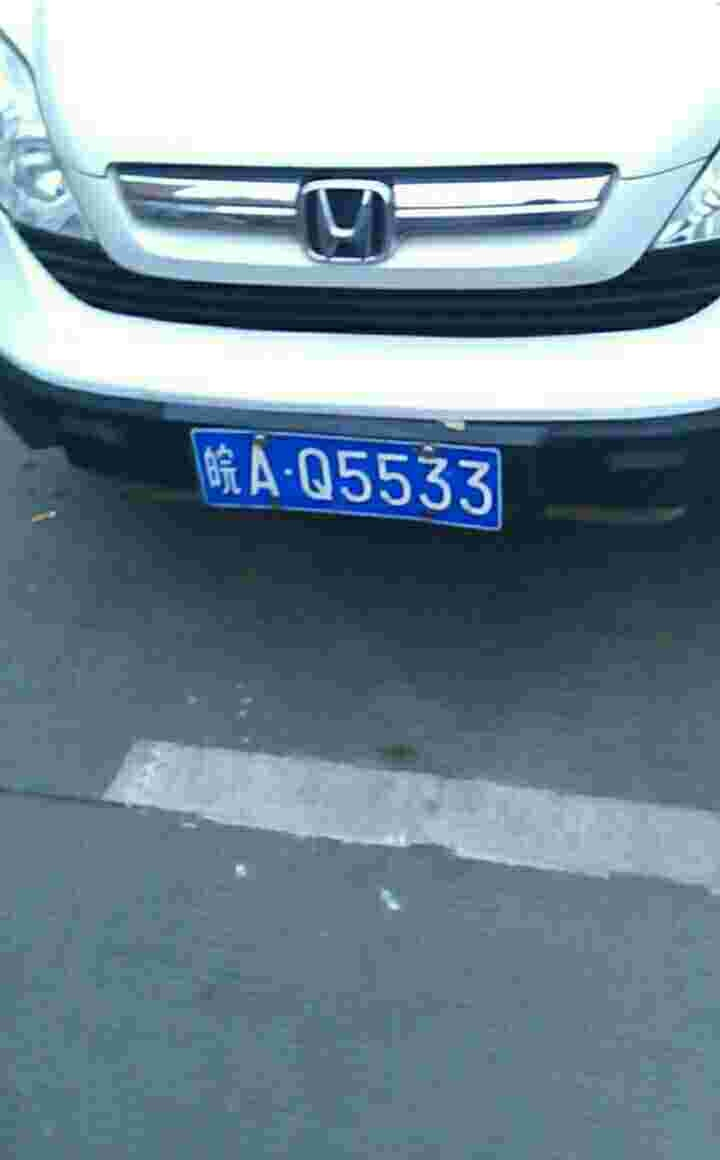license_plate: (201, 423, 522, 532)
